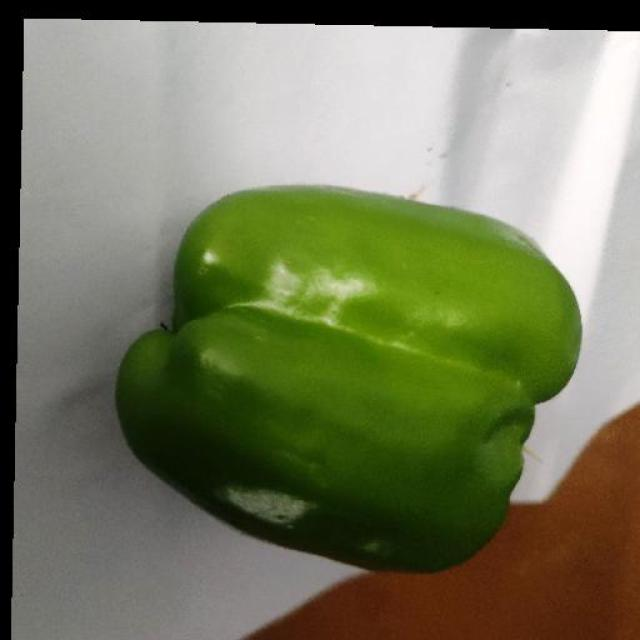Stale_Capsicum: (140, 342, 460, 588)
